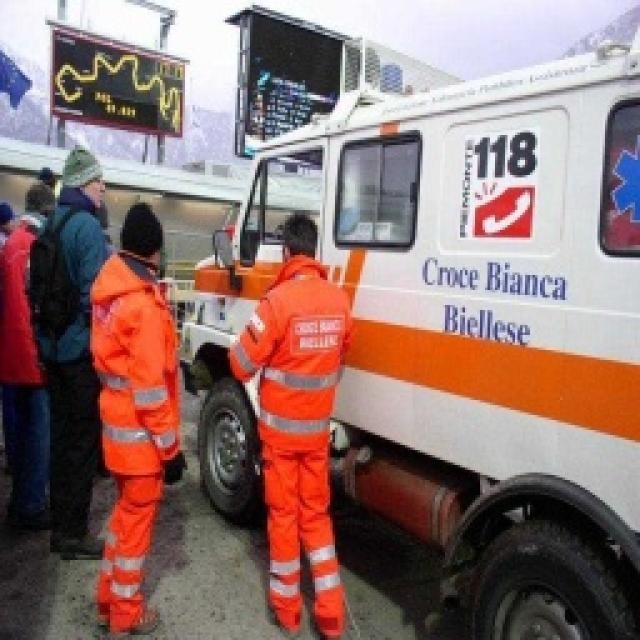emergency-vehicle: (192, 42, 638, 640)
